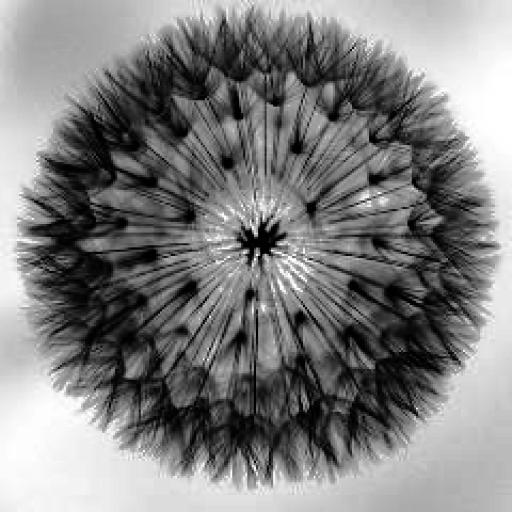dandelion: (13, 6, 512, 480)
